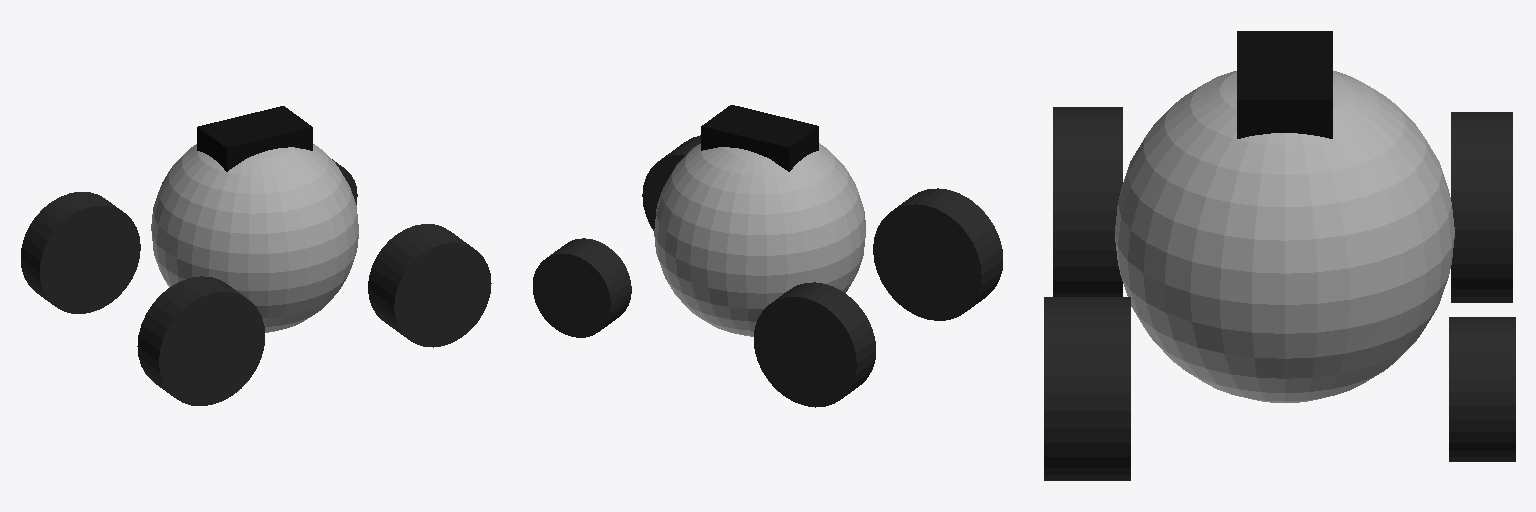
URDF robot description (evolved_robot):
<?xml version="1.0"?>
<robot name="evolved_robot">
  <material name="metal">
    <color rgba="0.7 0.7 0.7 1.0"/>
  </material>
  <material name="plastic">
    <color rgba="0.3 0.3 0.9 1.0"/>
  </material>
  <material name="rubber">
    <color rgba="0.1 0.1 0.1 1.0"/>
  </material>
  <material name="red">
    <color rgba="1.0 0.0 0.0 1.0"/>
  </material>
  <material name="wheel_material">
    <color rgba="0.2 0.2 0.2 1.0"/>
  </material>
  <link name="base_link">
    <visual>
      <geometry><sphere radius="0.12823623912300278"/></geometry>
      <material name="metal"/>
    </visual>
    <collision>
      <geometry><sphere radius="0.12823623912300278"/></geometry>
    </collision>
    <inertial>
      <mass value="5.0"/>
      <inertia ixx="0.0657781320976478" ixy="0" ixz="0" 
               iyy="0.0657781320976478" iyz="0" 
               izz="0.0657781320976478"/>
    </inertial>
  </link>
  <link name="link1">
    <visual>
      <geometry><sphere radius="0.06796551032297707"/></geometry>
      <material name="plastic"/>
    </visual>
    <collision>
      <geometry><sphere radius="0.06796551032297707"/></geometry>
    </collision>
    <inertial>
      <mass value="0.5"/>
      <inertia ixx="0.001847724237385081" ixy="0" ixz="0" 
               iyy="0.001847724237385081" iyz="0" 
               izz="0.001847724237385081"/>
    </inertial>
  </link>
  <joint name="joint1" type="revolute">
    <parent link="base_link"/>
    <child link="link1"/>
    <origin xyz="0 0 0.05395942355574325" rpy="0 0 0"/>
    <axis xyz="-0.43895263898983183 -0.6521106710845593 -0.6181199344637803"/>
    <dynamics damping="0.6507322579426503" friction="0.1"/>
    <limit lower="-1.2543507210500946" upper="1.2636909180375597" effort="100" velocity="100"/>
  </joint>
  <link name="link2">
    <visual>
      <geometry>
        <cylinder radius="0.054725586248147544" length="0.05017284003282977"/>
      </geometry>
      <material name="wheel_material"/>
    </visual>
    <collision>
      <geometry>
        <cylinder radius="0.054725586248147544" length="0.05017284003282977"/>
      </geometry>
    </collision>
    <inertial>
      <mass value="1.0"/>
      <inertia ixx="0.000958498603964186" ixy="0" ixz="0" 
               iyy="0.000958498603964186" iyz="0" 
               izz="0.0014974448951017177"/>
    </inertial>
  </link>
  <joint name="joint2" type="continuous">
    <parent link="base_link"/>
    <child link="link2"/>
    <origin xyz="0.16212409656386137 0.14862519724940376 -0.05395942355574325" rpy="1.5708 0 0"/>
    <axis xyz="0 1 0"/>
    <dynamics damping="0.5353756054625594" friction="0.1"/>
  </joint>
  <link name="link3">
    <visual>
      <geometry>
        <cylinder radius="0.06910428393601839" length="0.06481733612685017"/>
      </geometry>
      <material name="wheel_material"/>
    </visual>
    <collision>
      <geometry>
        <cylinder radius="0.06910428393601839" length="0.06481733612685017"/>
      </geometry>
    </collision>
    <inertial>
      <mass value="1.0"/>
      <inertia ixx="0.001543957769792552" ixy="0" ixz="0" 
               iyy="0.001543957769792552" iyz="0" 
               izz="0.002387701029154925"/>
    </inertial>
  </link>
  <joint name="joint3" type="continuous">
    <parent link="base_link"/>
    <child link="link3"/>
    <origin xyz="0.16212409656386137 -0.14862519724940376 -0.05395942355574325" rpy="1.5708 0 0"/>
    <axis xyz="0 1 0"/>
    <dynamics damping="0.9361071883416644" friction="0.1"/>
  </joint>
  <link name="link4">
    <visual>
      <geometry>
        <cylinder radius="0.07188699764978237" length="0.047103208370051206"/>
      </geometry>
      <material name="wheel_material"/>
    </visual>
    <collision>
      <geometry>
        <cylinder radius="0.07188699764978237" length="0.047103208370051206"/>
      </geometry>
    </collision>
    <inertial>
      <mass value="1.0"/>
      <inertia ixx="0.0014768277943376595" ixy="0" ixz="0" 
               iyy="0.0014768277943376595" iyz="0" 
               izz="0.0025838702155499085"/>
    </inertial>
  </link>
  <joint name="joint4" type="continuous">
    <parent link="base_link"/>
    <child link="link4"/>
    <origin xyz="-0.16212409656386137 0.14862519724940376 -0.05395942355574325" rpy="1.5708 0 0"/>
    <axis xyz="0 1 0"/>
    <dynamics damping="0.6299214264204668" friction="0.1"/>
  </joint>
  <link name="link5">
    <visual>
      <geometry><box size="0.1224750609236127 0.07212238901574441 0.0708134460902181"/></geometry>
      <material name="rubber"/>
    </visual>
    <collision>
      <geometry><box size="0.1224750609236127 0.07212238901574441 0.0708134460902181"/></geometry>
    </collision>
    <inertial>
      <mass value="0.5"/>
      <inertia ixx="0.0008513485953758829" ixy="0" ixz="0" 
               iyy="0.0016678903912845724" iyz="0" 
               izz="0.0016834816287984178"/>
    </inertial>
  </link>
  <joint name="joint5" type="fixed">
    <parent link="base_link"/>
    <child link="link5"/>
    <origin xyz="0 0 0.10395942355574325" rpy="0 0 0"/>
    <axis xyz="-0.5677213251139246 -0.7027704675307052 0.4287262144744169"/>
    <dynamics damping="0.8033408798466991" friction="0.1"/>
  </joint>
  <link name="link6">
    <visual>
      <geometry>
        <cylinder radius="0.0756692764888888" length="0.052724950445477134"/>
      </geometry>
      <material name="wheel_material"/>
    </visual>
    <collision>
      <geometry>
        <cylinder radius="0.0756692764888888" length="0.052724950445477134"/>
      </geometry>
    </collision>
    <inertial>
      <mass value="1.0"/>
      <inertia ixx="0.0016631198843778097" ixy="0" ixz="0" 
               iyy="0.0016631198843778097" iyz="0" 
               izz="0.0028629197021759496"/>
    </inertial>
  </link>
  <joint name="joint6" type="continuous">
    <parent link="base_link"/>
    <child link="link6"/>
    <origin xyz="-0.16212409656386137 -0.14862519724940376 -0.05395942355574325" rpy="1.5708 0 0"/>
    <axis xyz="0 1 0"/>
    <dynamics damping="0.9271685352918507" friction="0.1"/>
  </joint>
</robot>

--- Facts derived from the render (not from the file) ---
The picture shows the robot from 3 angles, left to right: view 1: azimuth 30°, elevation 25°; view 2: azimuth 150°, elevation 25°; view 3: azimuth 270°, elevation 25°; orthographic projection.
Model evolved_robot with 7 links and 6 joints (1 revolute, 4 continuous, 1 fixed), rooted at base_link, posed every joint at zero.
Visible links, largest first — view 1: base_link, link6, link3, link4, link5; view 2: base_link, link6, link4, link2, link5, link3; view 3: base_link, link3, link6, link4, link5, link2.
Link boxes in pixels (bbox=[...]): base_link: bbox=[151, 144, 358, 332]; link6: bbox=[137, 276, 264, 405]; link3: bbox=[368, 224, 491, 347]; link4: bbox=[21, 192, 140, 313]; link5: bbox=[197, 106, 312, 171]; base_link: bbox=[654, 143, 865, 336]; link6: bbox=[873, 188, 1002, 320]; link4: bbox=[754, 282, 875, 407]; link2: bbox=[533, 238, 631, 337]; link5: bbox=[701, 105, 818, 171]; link3: bbox=[642, 135, 700, 230]; base_link: bbox=[1115, 71, 1454, 402]; link3: bbox=[1044, 297, 1130, 480]; link6: bbox=[1053, 107, 1122, 296]; link4: bbox=[1451, 112, 1512, 302]; link5: bbox=[1237, 31, 1332, 138]; link2: bbox=[1449, 317, 1515, 461].
Bounding box of the posed robot: 0.469 × 0.3547 × 0.269 m (x, y, z).
Geometry: primitives only (box / cylinder / sphere), no mesh files.